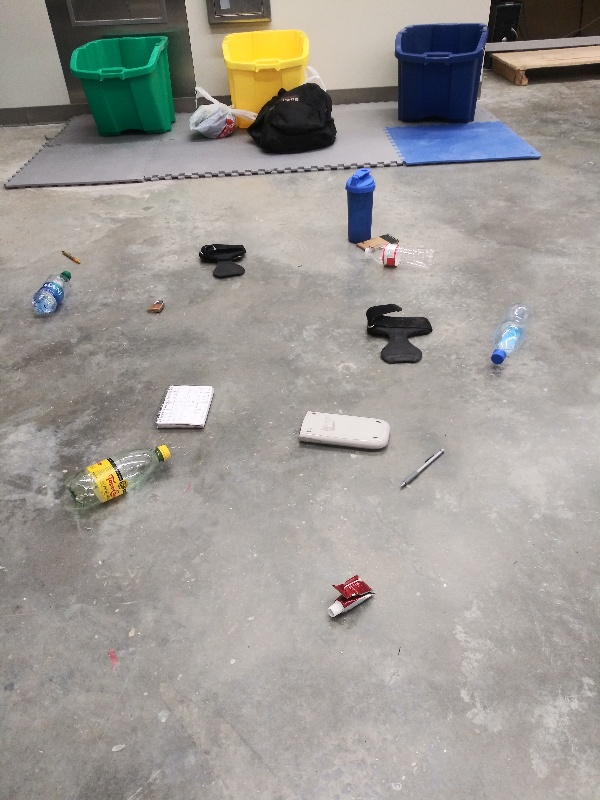bottle: (67, 442, 177, 523), (487, 300, 534, 368), (363, 242, 440, 276), (26, 266, 77, 317)
